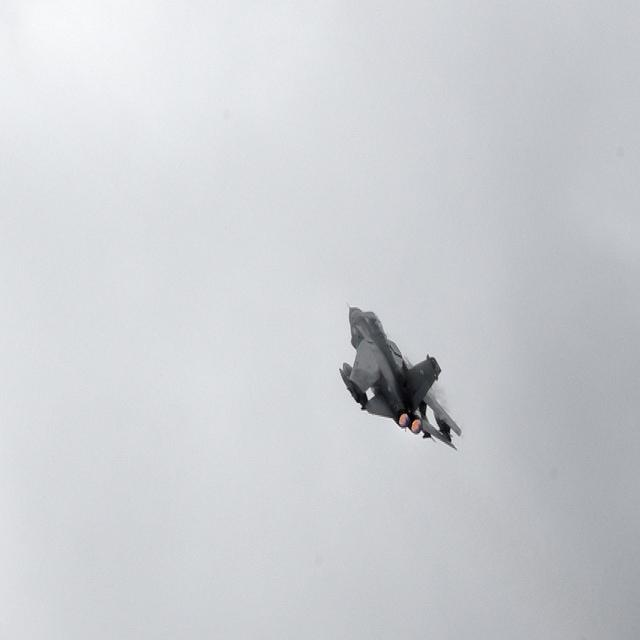airplane: (339, 303, 462, 451)
